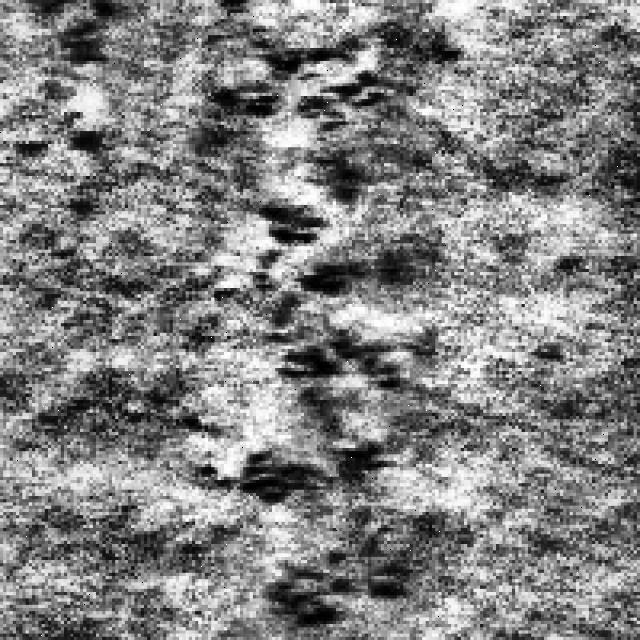Crazing: (208, 131, 442, 483), (214, 3, 397, 198), (240, 432, 416, 634), (13, 0, 128, 160)
